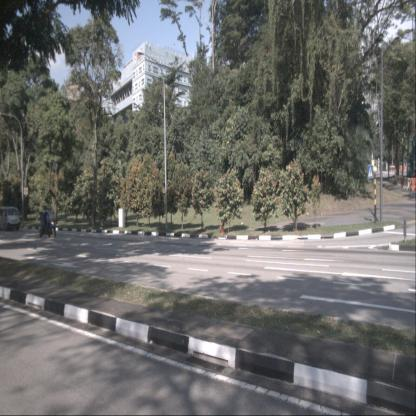movable_object-barrier: (403, 177, 411, 192), (410, 178, 416, 192), (396, 176, 402, 188), (400, 177, 406, 189)
vehicle-car: (0, 206, 21, 232)
vehicle-motorcycle: (39, 204, 57, 240)
